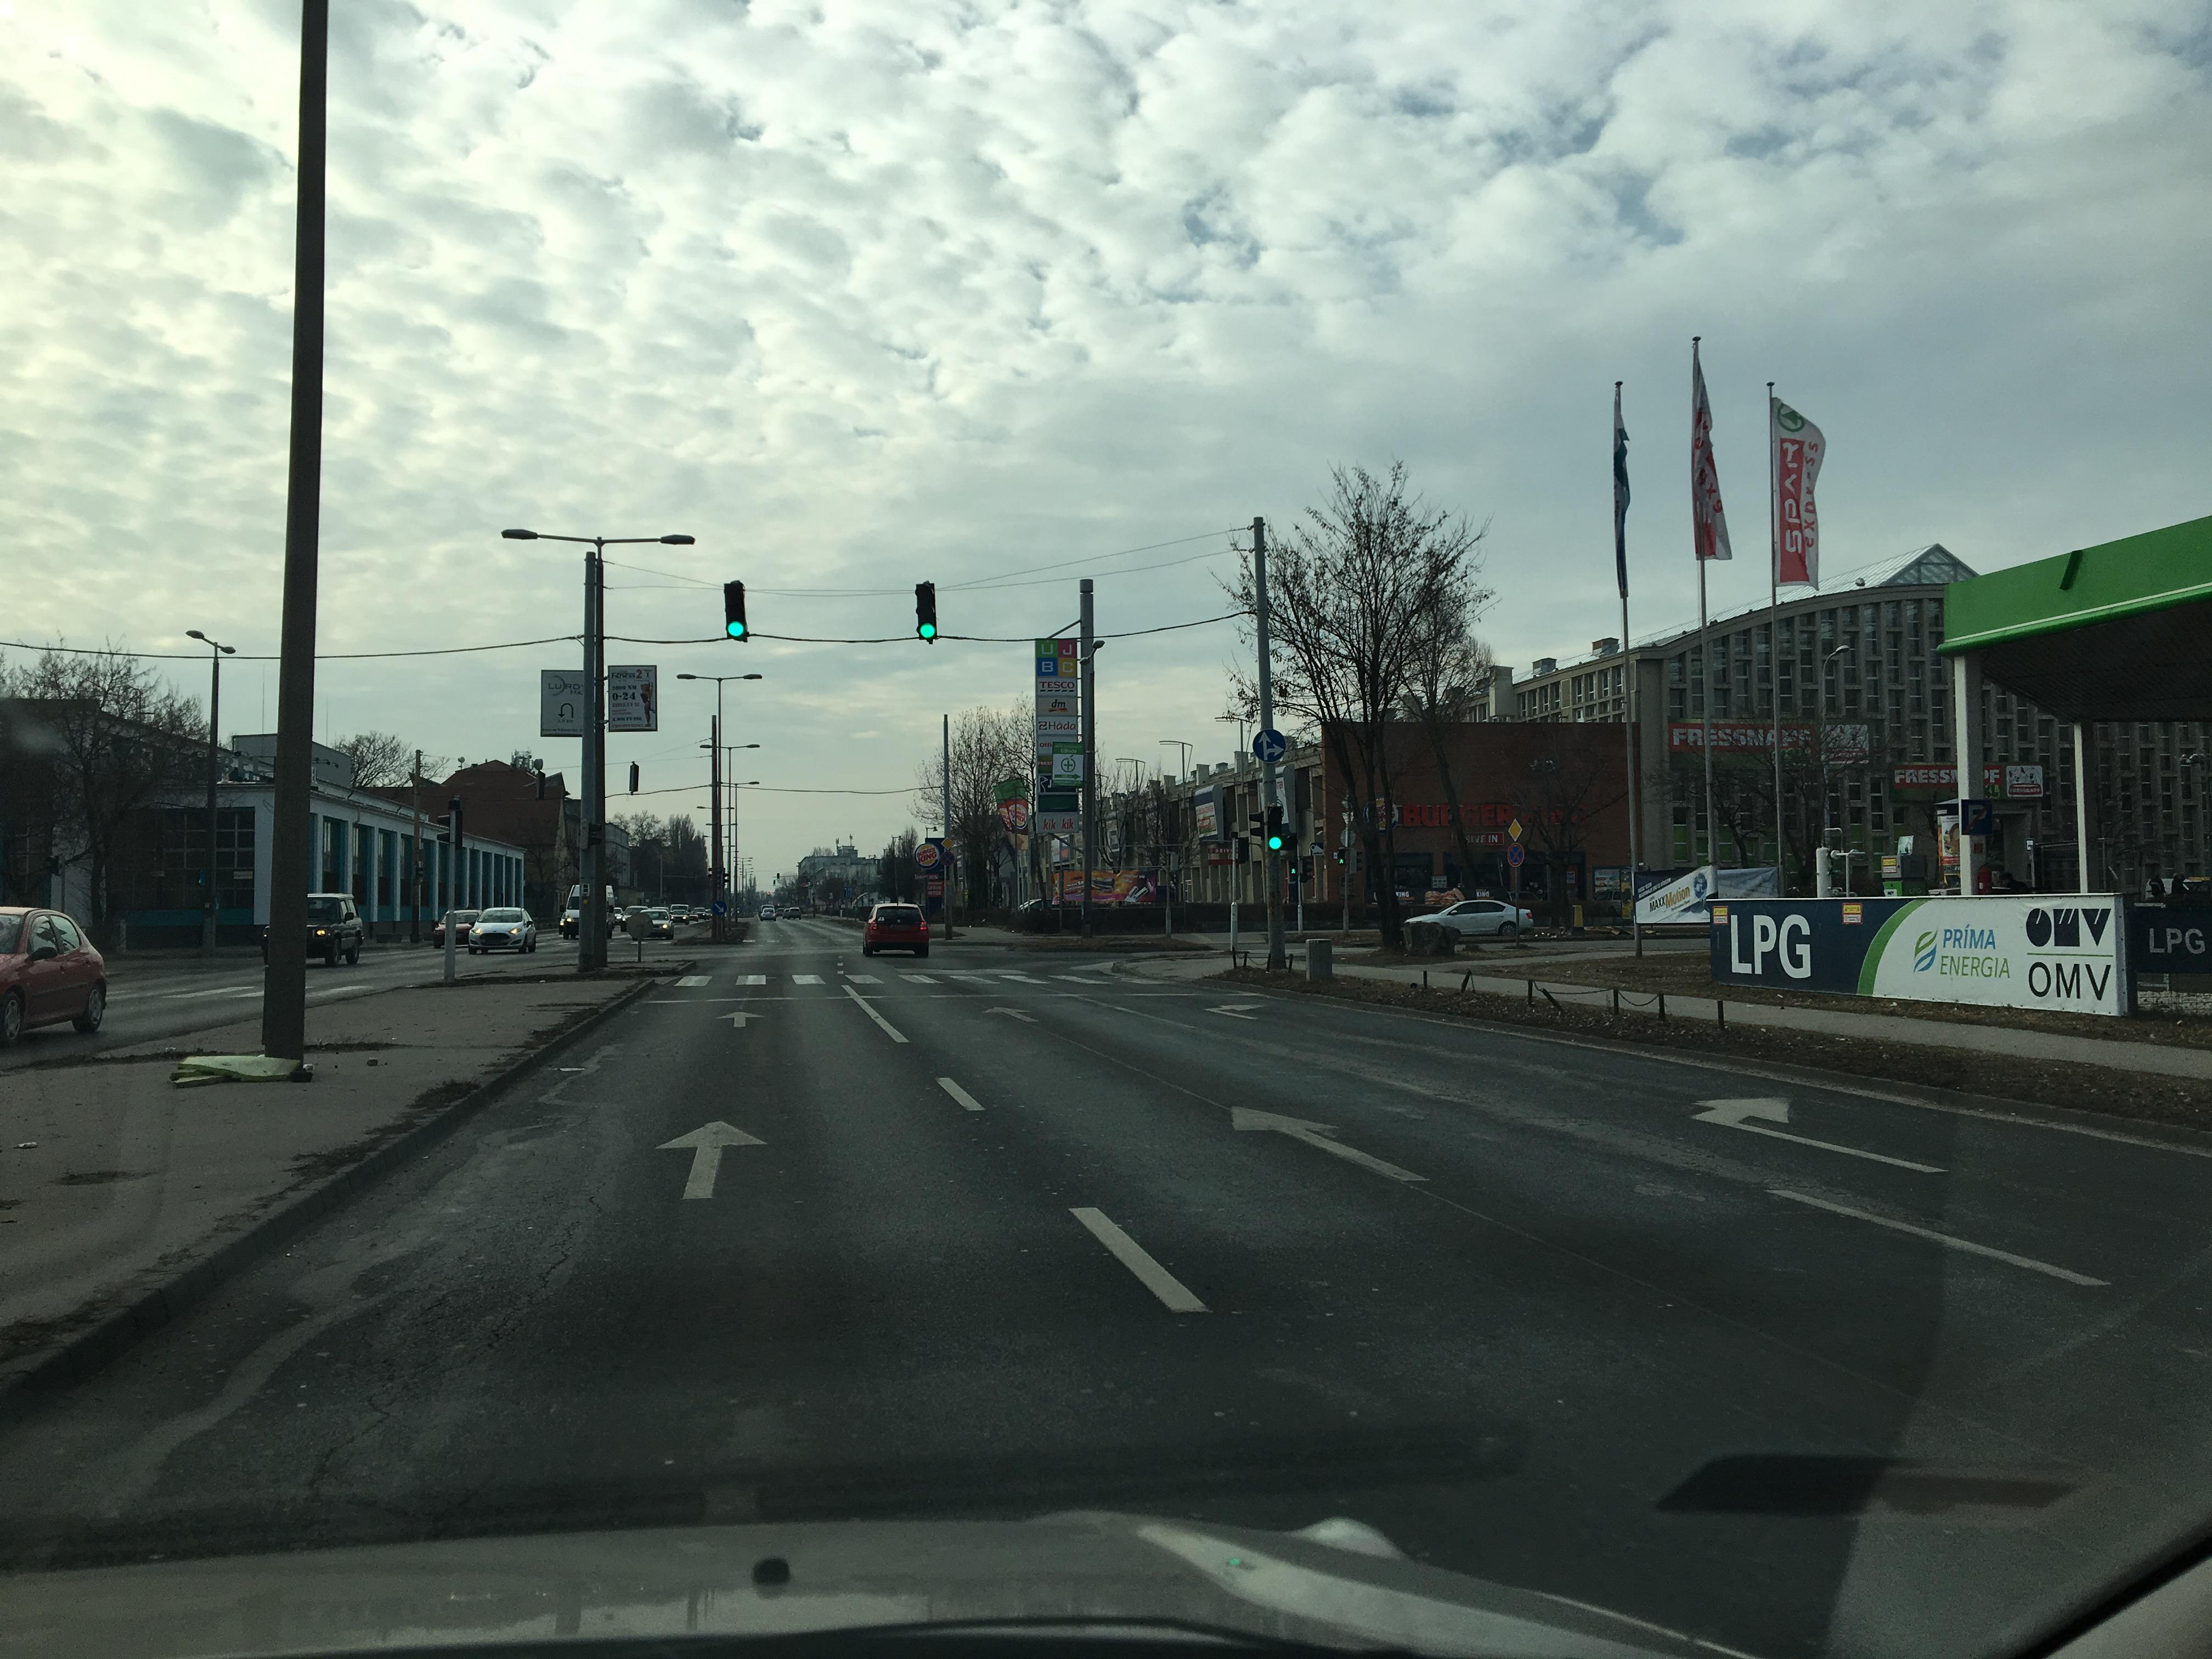vinyl banner: (1691, 885, 2146, 1016), (1618, 854, 1756, 925)
